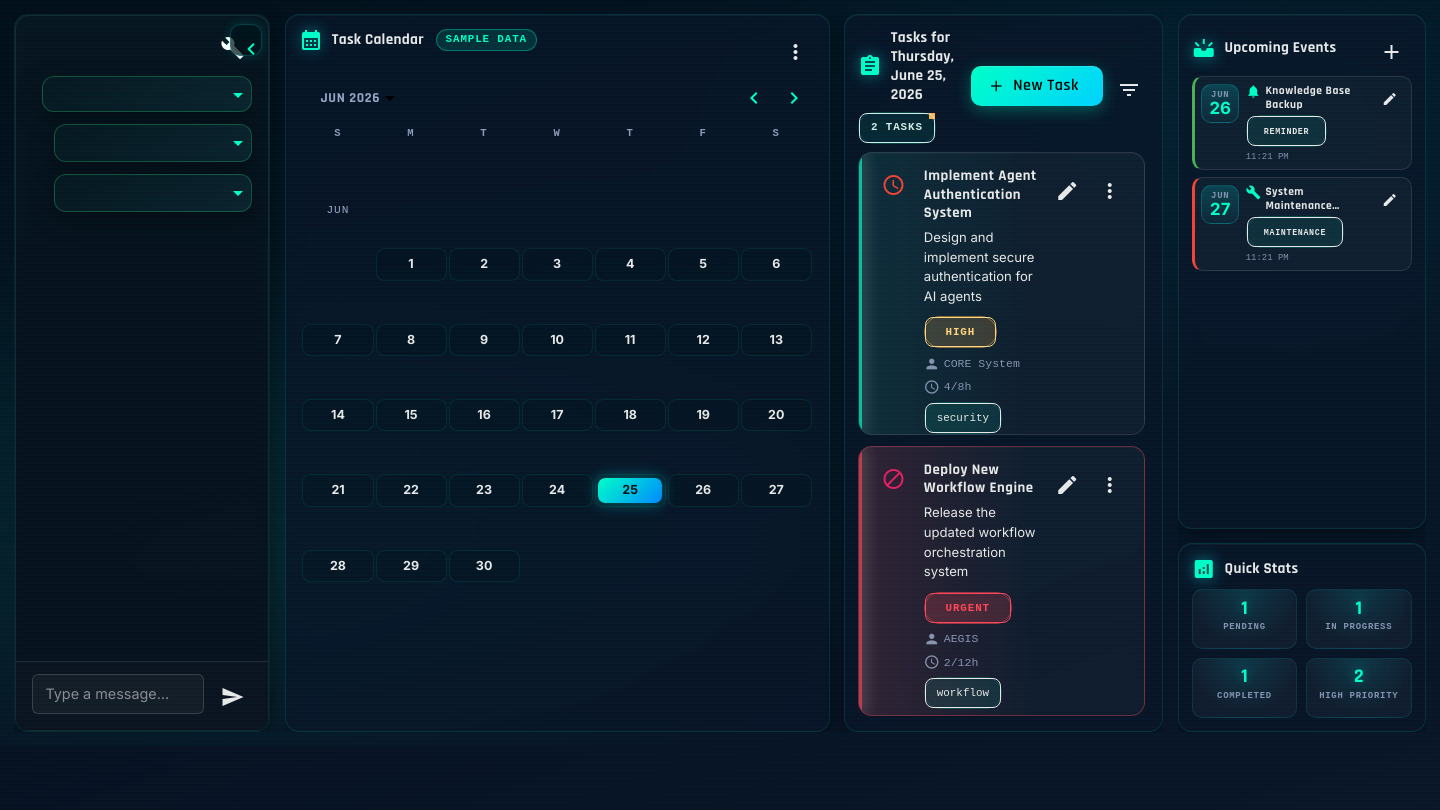
BoardsComponent › should collapse the chat panel from the toggle button
The width and height of the screenshot is (1440, 810).
Click the button with class "chat-section__toggle". click: click(246, 40)
box: [230,24,262,56]
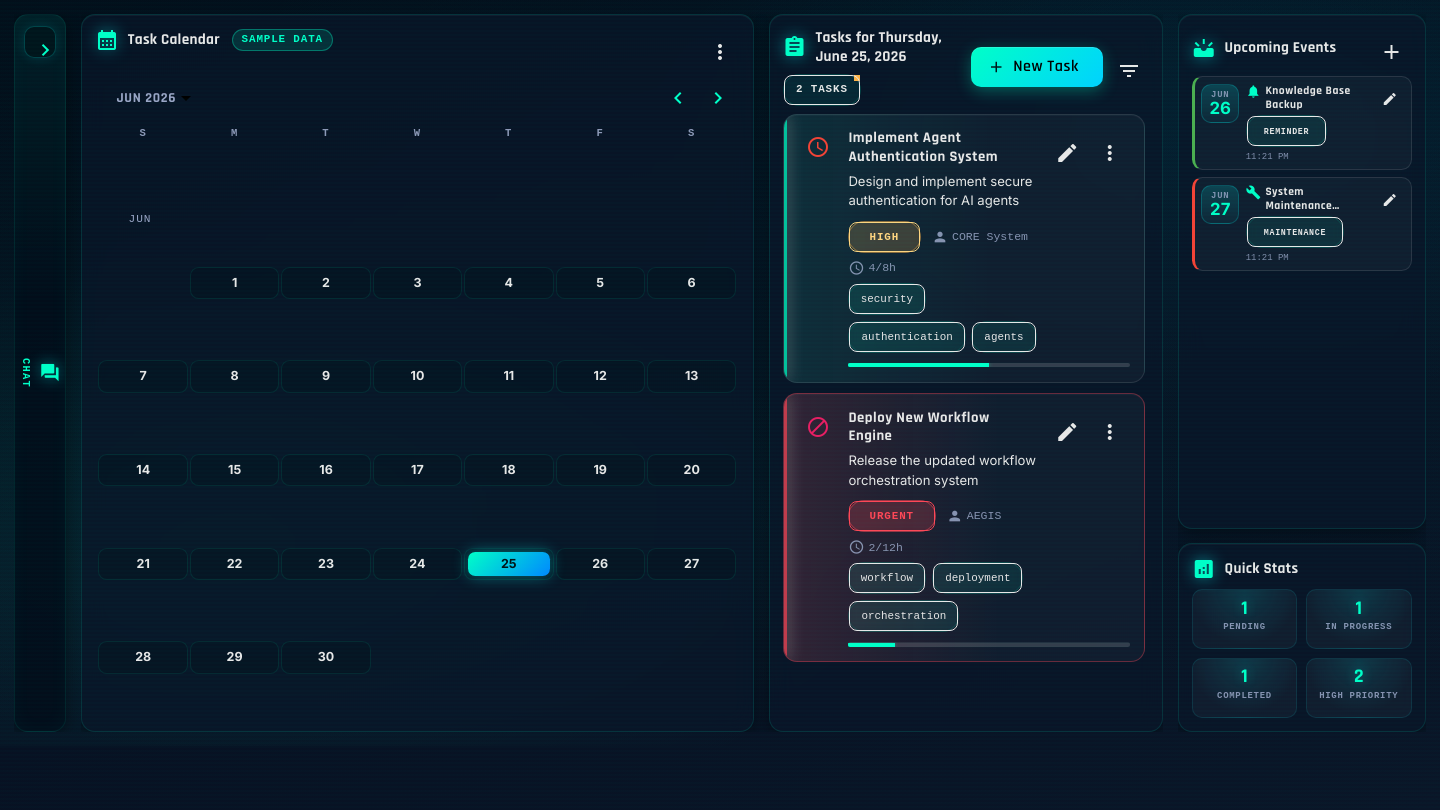
Expected: the element with class "chat-section" reads "Chat", [20,358,32,388]
